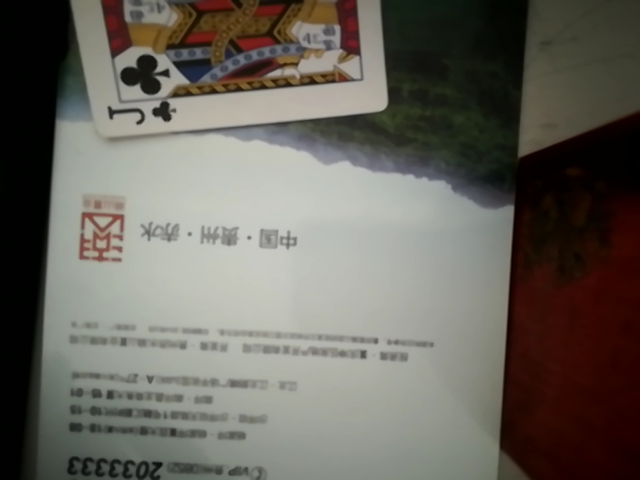mh j: (66, 0, 397, 143)
